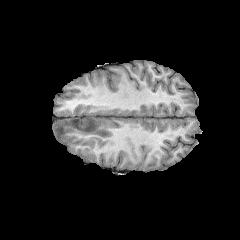glioma: (53, 118, 113, 141)
